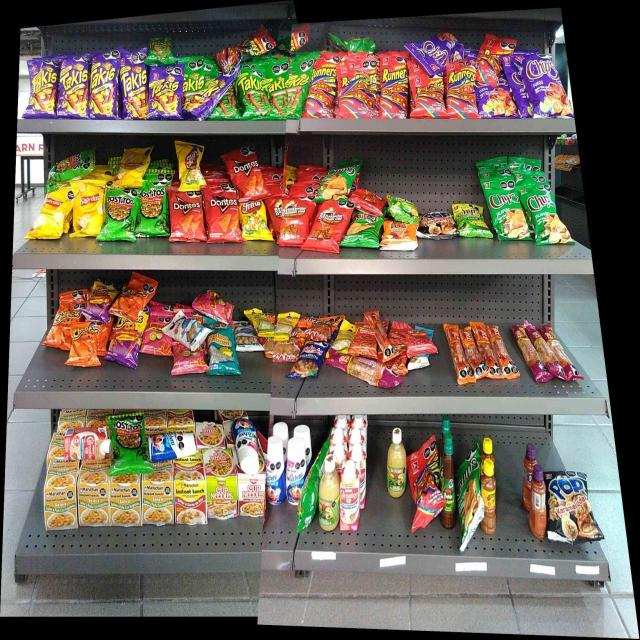bitzEnchilado95: (453, 322, 505, 380)
bitzHabanero: (524, 326, 564, 381), (333, 356, 382, 371)
bokadosCacahuates: (298, 346, 322, 377)
botaneraChilito: (483, 458, 498, 534)
cheetosFlaminHot: (117, 319, 139, 365), (93, 283, 110, 320)
cheetosOriginal: (72, 326, 97, 364), (54, 306, 82, 326), (120, 288, 153, 302)
chipsFuego: (525, 57, 559, 114), (479, 86, 512, 117), (415, 41, 458, 60)
chipsJalapeno: (490, 178, 526, 237), (527, 180, 557, 244), (458, 455, 480, 521), (326, 167, 349, 198)
chipsPapatinas: (457, 201, 486, 239)
churrumais: (201, 296, 231, 318), (148, 318, 161, 352)
delPrimoSalsa: (318, 456, 339, 531), (387, 429, 406, 495)
doritosNacho: (207, 194, 238, 242), (172, 193, 203, 241), (233, 150, 262, 194)
fritosLimon: (242, 201, 268, 237), (181, 143, 200, 184)
hotNutsOriginal: (385, 222, 416, 251)
leoCacahuates: (173, 322, 200, 341), (236, 323, 253, 349)
maruchanPollo: (78, 478, 108, 526), (110, 480, 141, 526), (144, 476, 172, 524), (47, 483, 76, 528)
maruchanRes: (174, 474, 206, 524)
nestleCarnation: (65, 428, 109, 460), (341, 464, 357, 530)
nestleLechera: (235, 420, 258, 470), (267, 439, 285, 502), (286, 436, 303, 492), (150, 436, 193, 458)
nissinCamaron: (207, 475, 236, 515)
nissinRes: (238, 473, 265, 514)
popKarameladas: (549, 472, 591, 542), (421, 213, 455, 236)
rancheritos: (317, 206, 341, 252), (281, 200, 307, 241), (355, 193, 381, 214)
rufflesQueso: (351, 214, 379, 246)
runners: (409, 446, 440, 518), (446, 66, 476, 114), (381, 68, 409, 116), (340, 71, 368, 116), (412, 78, 443, 115), (313, 68, 334, 116), (477, 47, 501, 79), (223, 42, 256, 58)
sabritasOriginal: (80, 187, 100, 234), (43, 195, 62, 239), (122, 154, 143, 185)
salsaBufalo: (444, 434, 456, 527)
semillasCalabaza: (335, 329, 353, 350), (276, 317, 292, 338), (253, 314, 267, 336)
semillasGirasol: (210, 330, 236, 372)
tajinDulce: (528, 468, 548, 534)
takisFuego: (60, 63, 89, 113), (150, 67, 179, 116), (31, 62, 57, 116), (120, 67, 148, 114), (91, 67, 116, 115), (188, 93, 218, 113)
takisOriginal: (240, 69, 269, 116), (270, 66, 288, 117), (150, 38, 172, 64), (183, 72, 205, 90)
tostitos: (111, 418, 147, 471), (106, 195, 136, 239), (139, 189, 166, 234), (52, 157, 90, 178)
